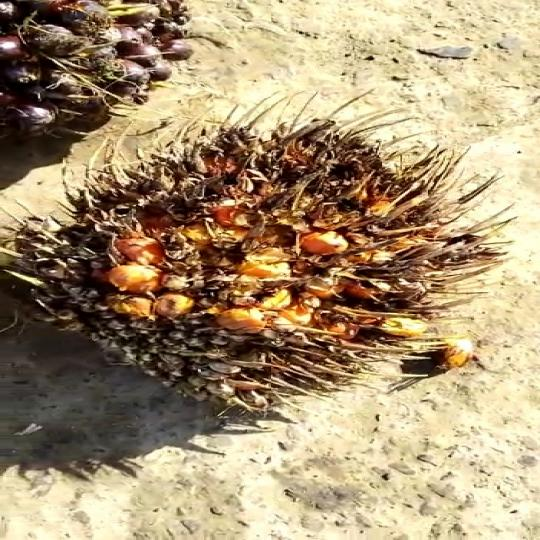terlalu masak: (13, 100, 519, 381)
